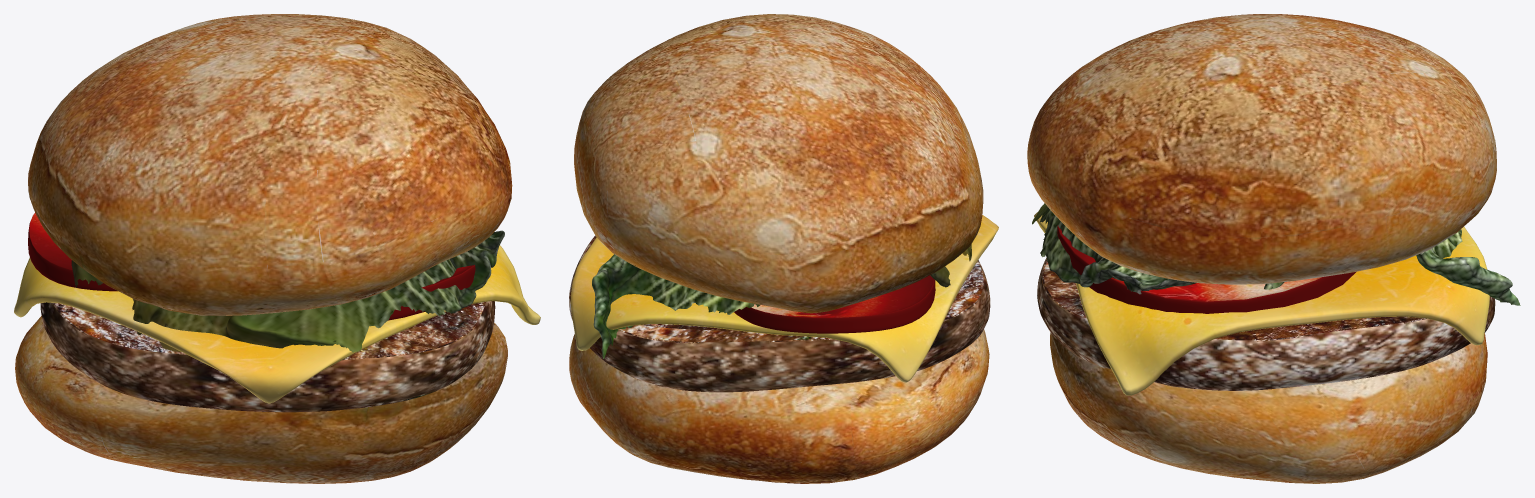
File: burger.gltf
The picture shows the model from 3 angles, left to right: view 1: azimuth 30°, elevation 25°; view 2: azimuth 150°, elevation 25°; view 3: azimuth 270°, elevation 25°; orthographic projection. The views are drawn at different scales.
Parts seen in each view (by area): view 1: Bread2A_Bread2A_0, Bread2B_Bread2A_0, Patty2, Cheese2, Cabbage2_Cabbage2_0, Tomato003, Tomato2A; view 2: Bread2A_Bread2A_0, Bread2B_Bread2A_0, Patty2, Cheese2, Tomato003, Cabbage2_Cabbage2_0; view 3: Bread2A_Bread2A_0, Bread2B_Bread2A_0, Patty2, Cheese2, Cabbage2_Cabbage2_0, Tomato2A.
Part boxes in pixels (<box>): Bread2A_Bread2A_0: <box>28,14,512,315</box>; Bread2B_Bread2A_0: <box>15,316,507,483</box>; Patty2: <box>40,301,495,412</box>; Cheese2: <box>14,245,540,403</box>; Cabbage2_Cabbage2_0: <box>71,230,504,352</box>; Tomato003: <box>28,212,117,291</box>; Tomato2A: <box>388,265,475,320</box>; Bread2A_Bread2A_0: <box>574,14,983,313</box>; Bread2B_Bread2A_0: <box>569,329,989,483</box>; Patty2: <box>569,235,990,392</box>; Cheese2: <box>570,215,998,382</box>; Tomato003: <box>734,275,935,333</box>; Cabbage2_Cabbage2_0: <box>592,244,971,358</box>; Bread2A_Bread2A_0: <box>1027,14,1496,284</box>; Bread2B_Bread2A_0: <box>1050,332,1487,483</box>; Patty2: <box>1037,258,1495,390</box>; Cheese2: <box>1034,212,1489,395</box>; Cabbage2_Cabbage2_0: <box>1032,203,1520,305</box>; Tomato2A: <box>1057,225,1356,313</box>.
Size of the model in its own units: 0.1397 by 0.1263 by 0.1477.
7 materials, 6 textured.
